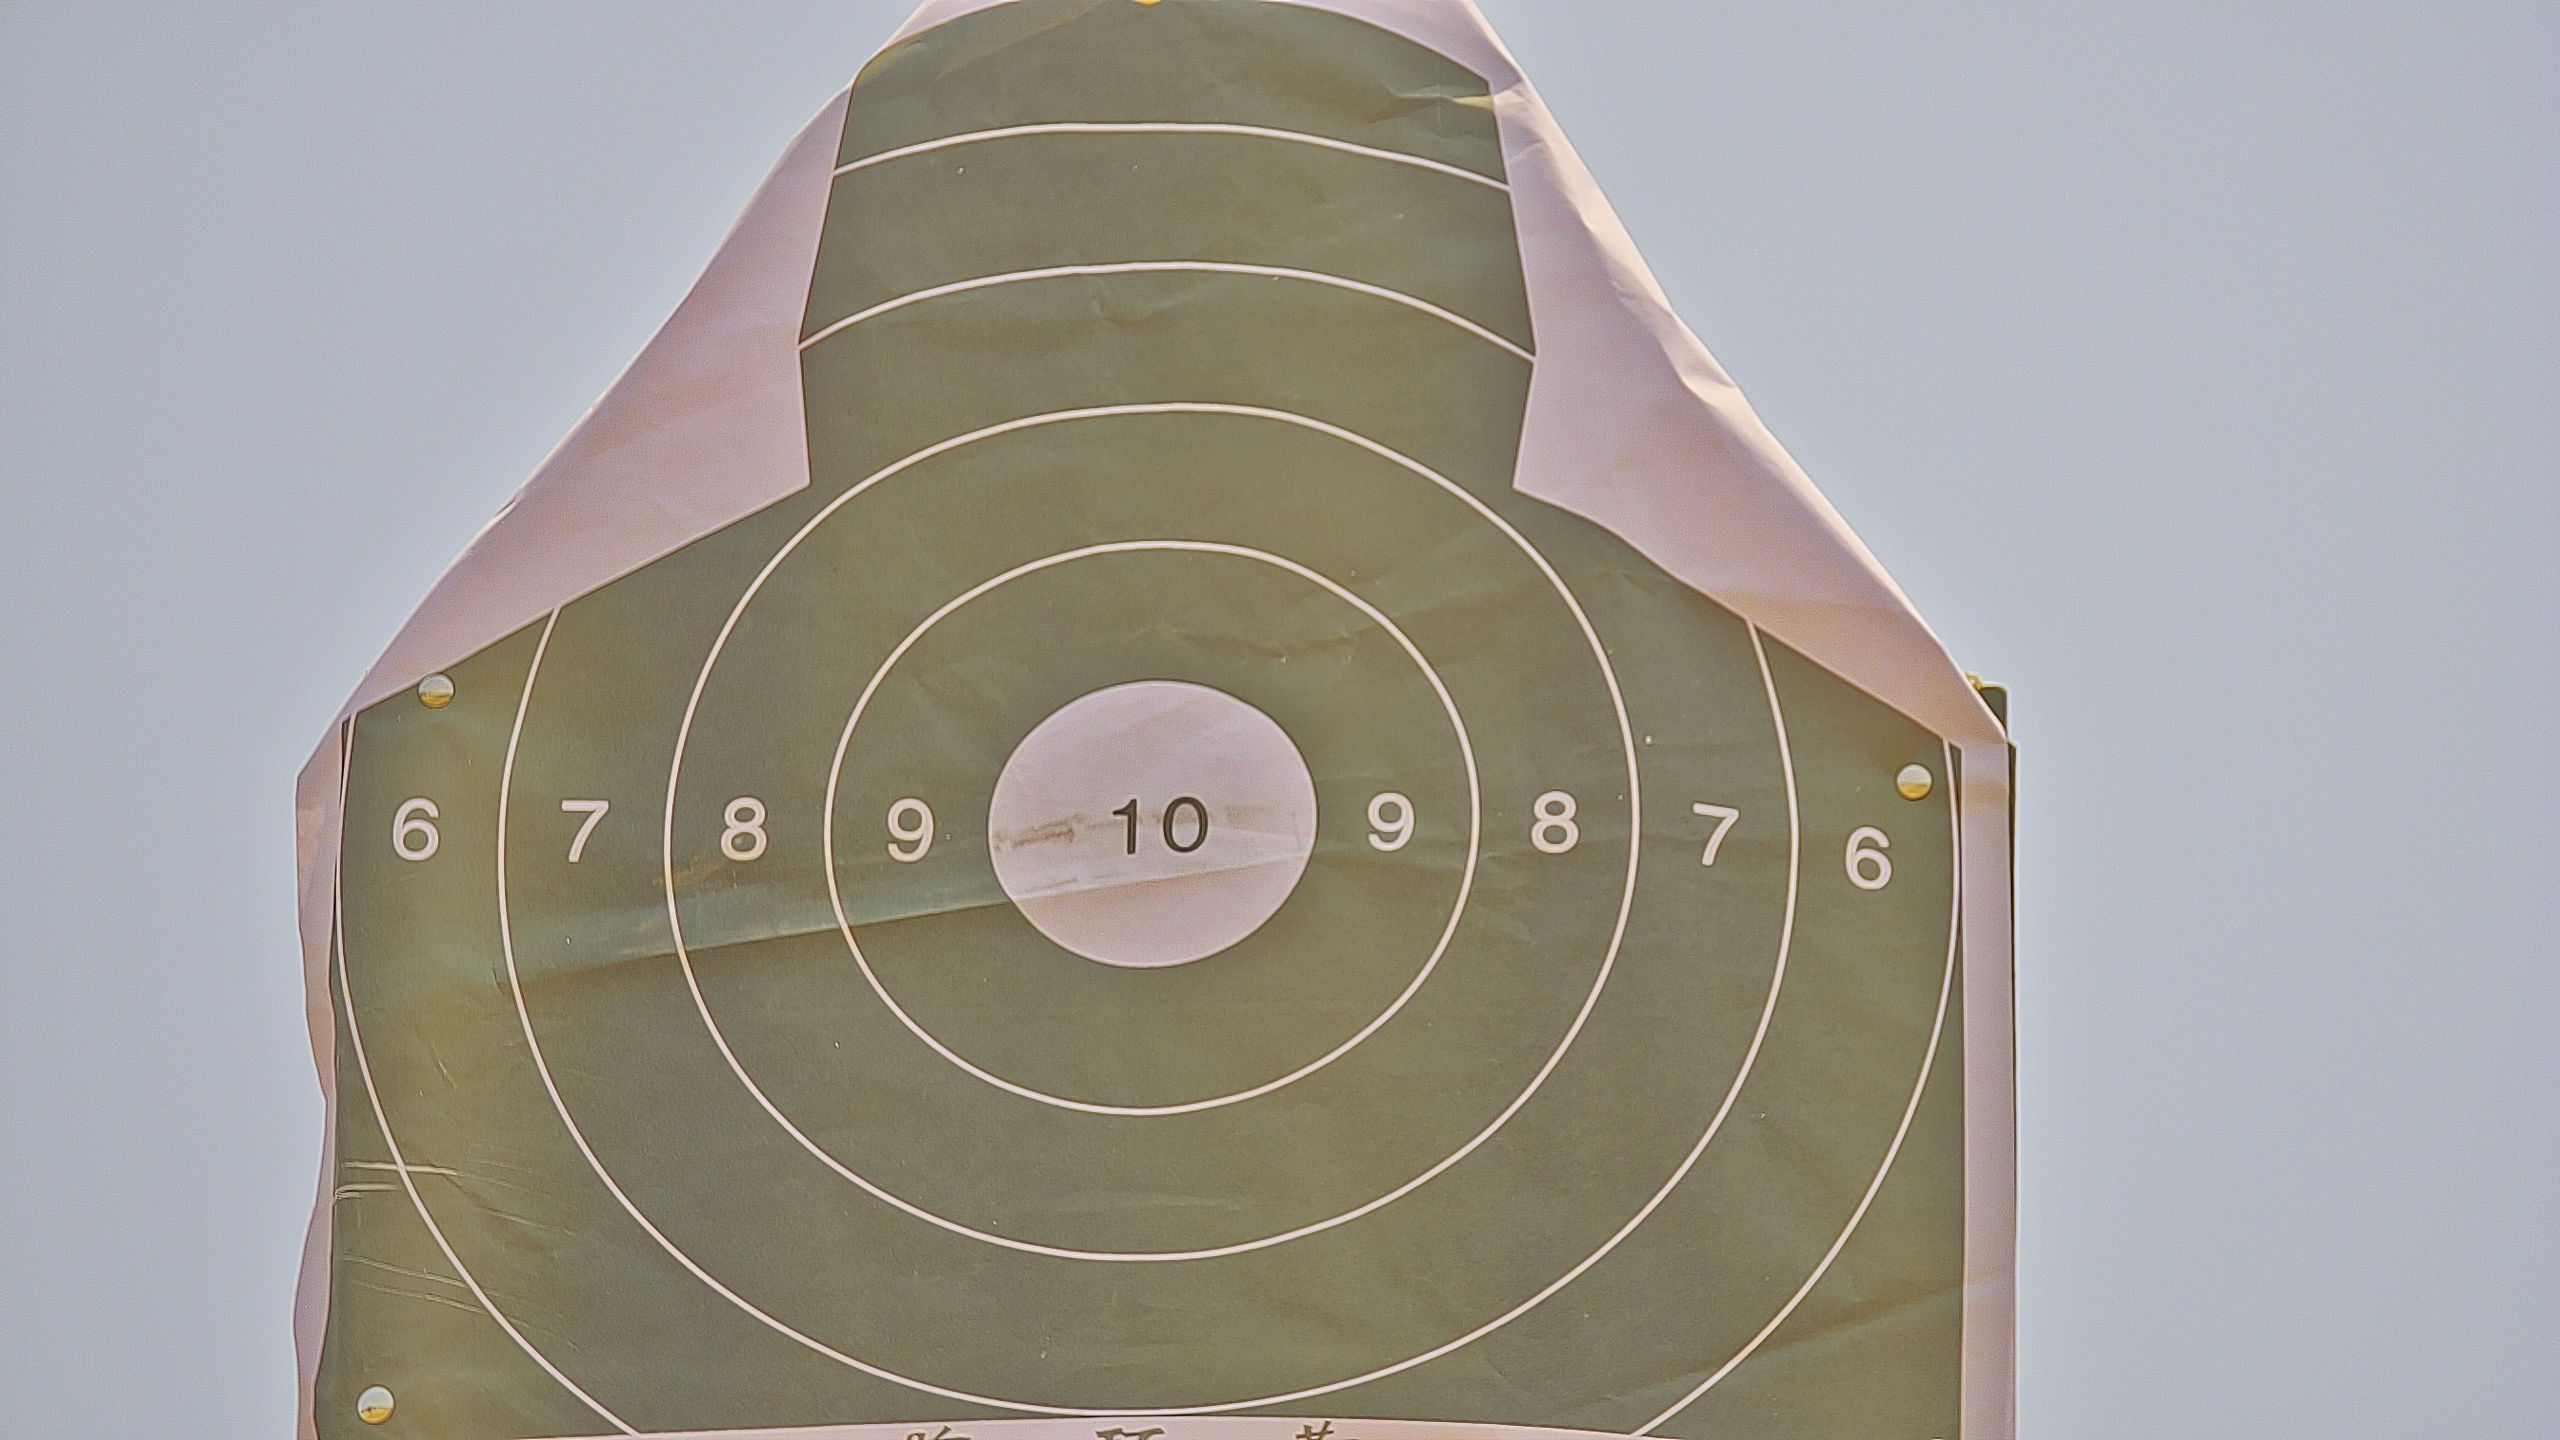kernel: (1145, 825, 1153, 828)
target: (327, 23, 1964, 1440)
ten: (986, 679, 1326, 969)
